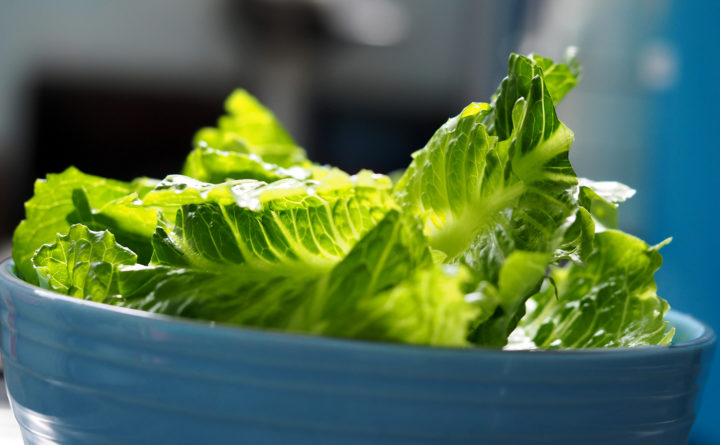chopped lettuce: (41, 91, 625, 331)
